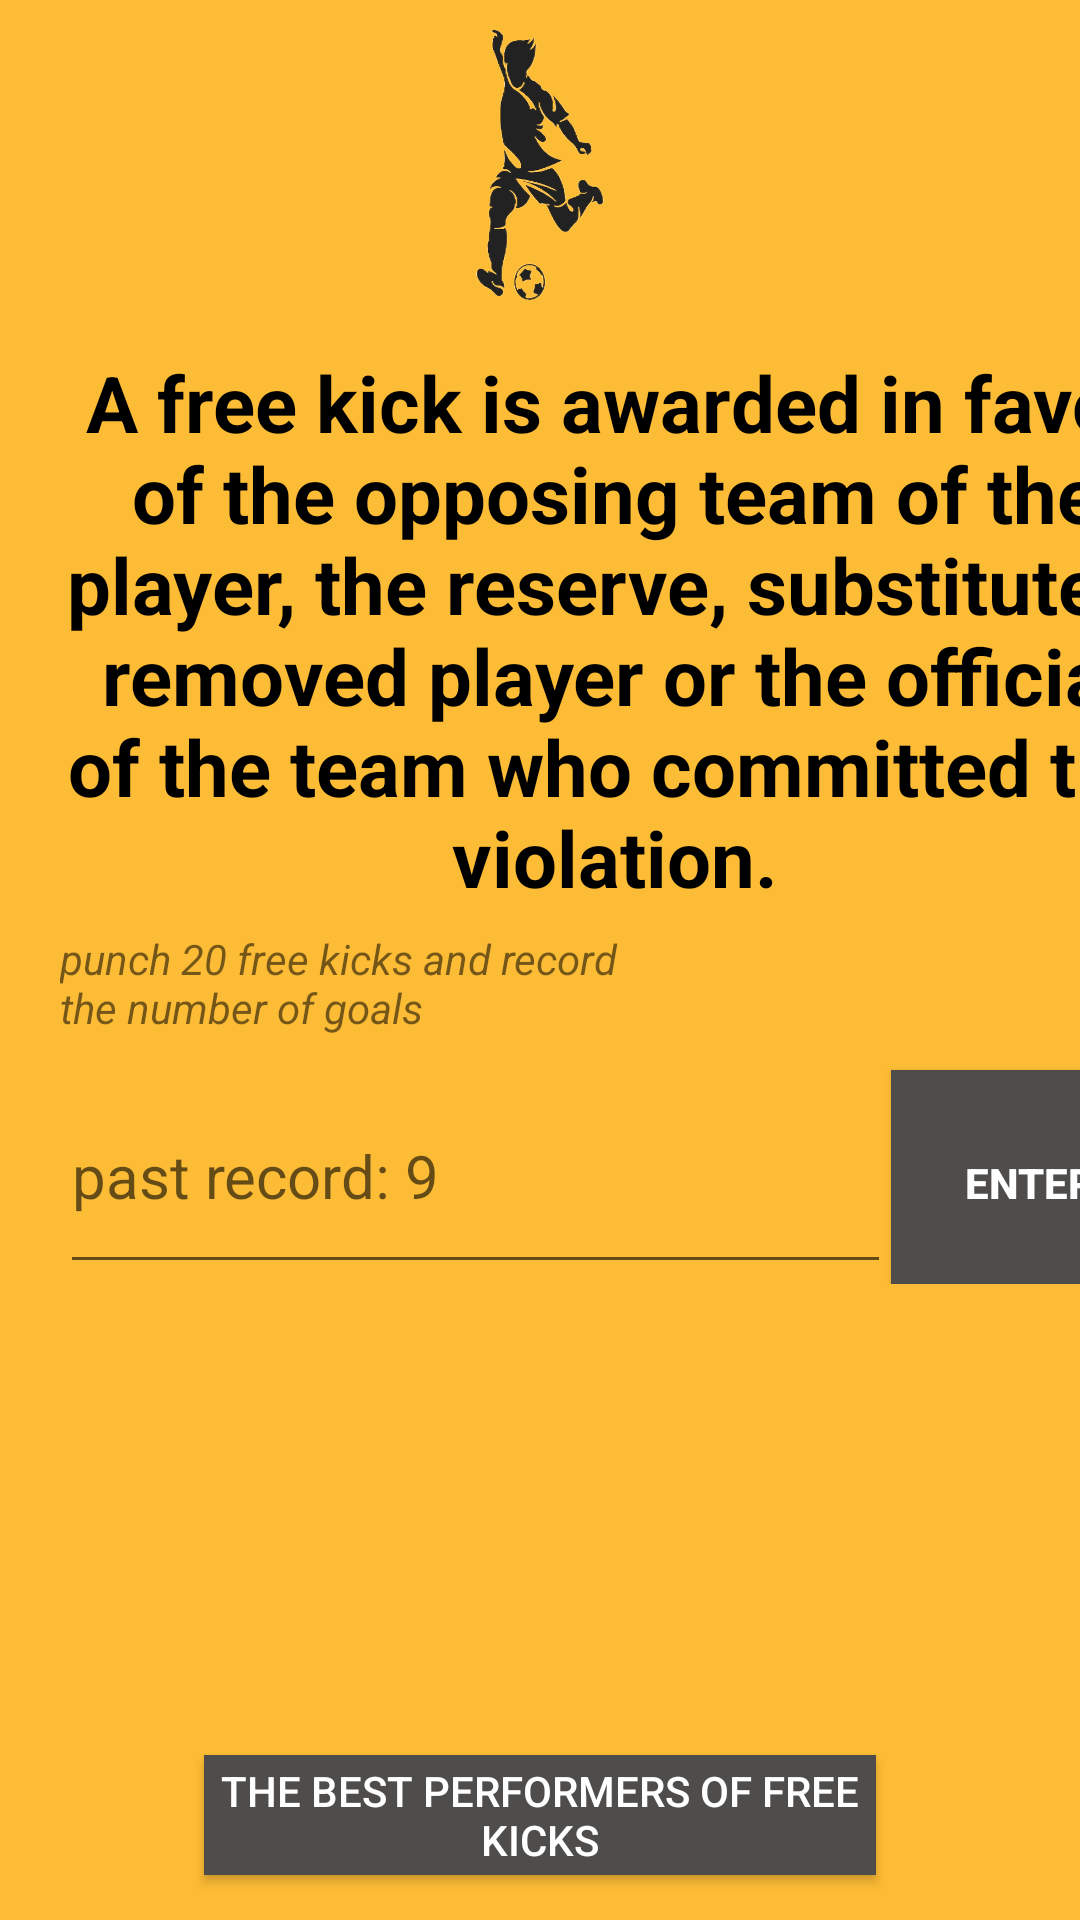

Screen size 1080 × 1920. Icon name, then its center in pixels as [x,y]:
emblemafreekick: [540,165]
